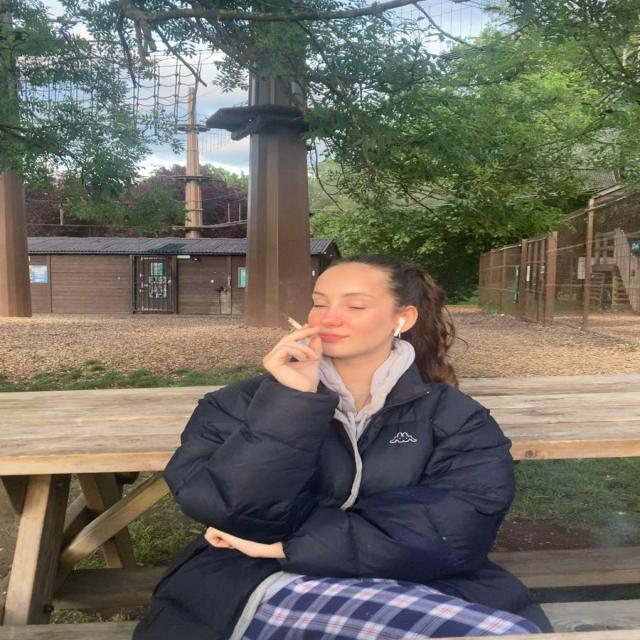cigarette: (283, 308, 334, 346)
